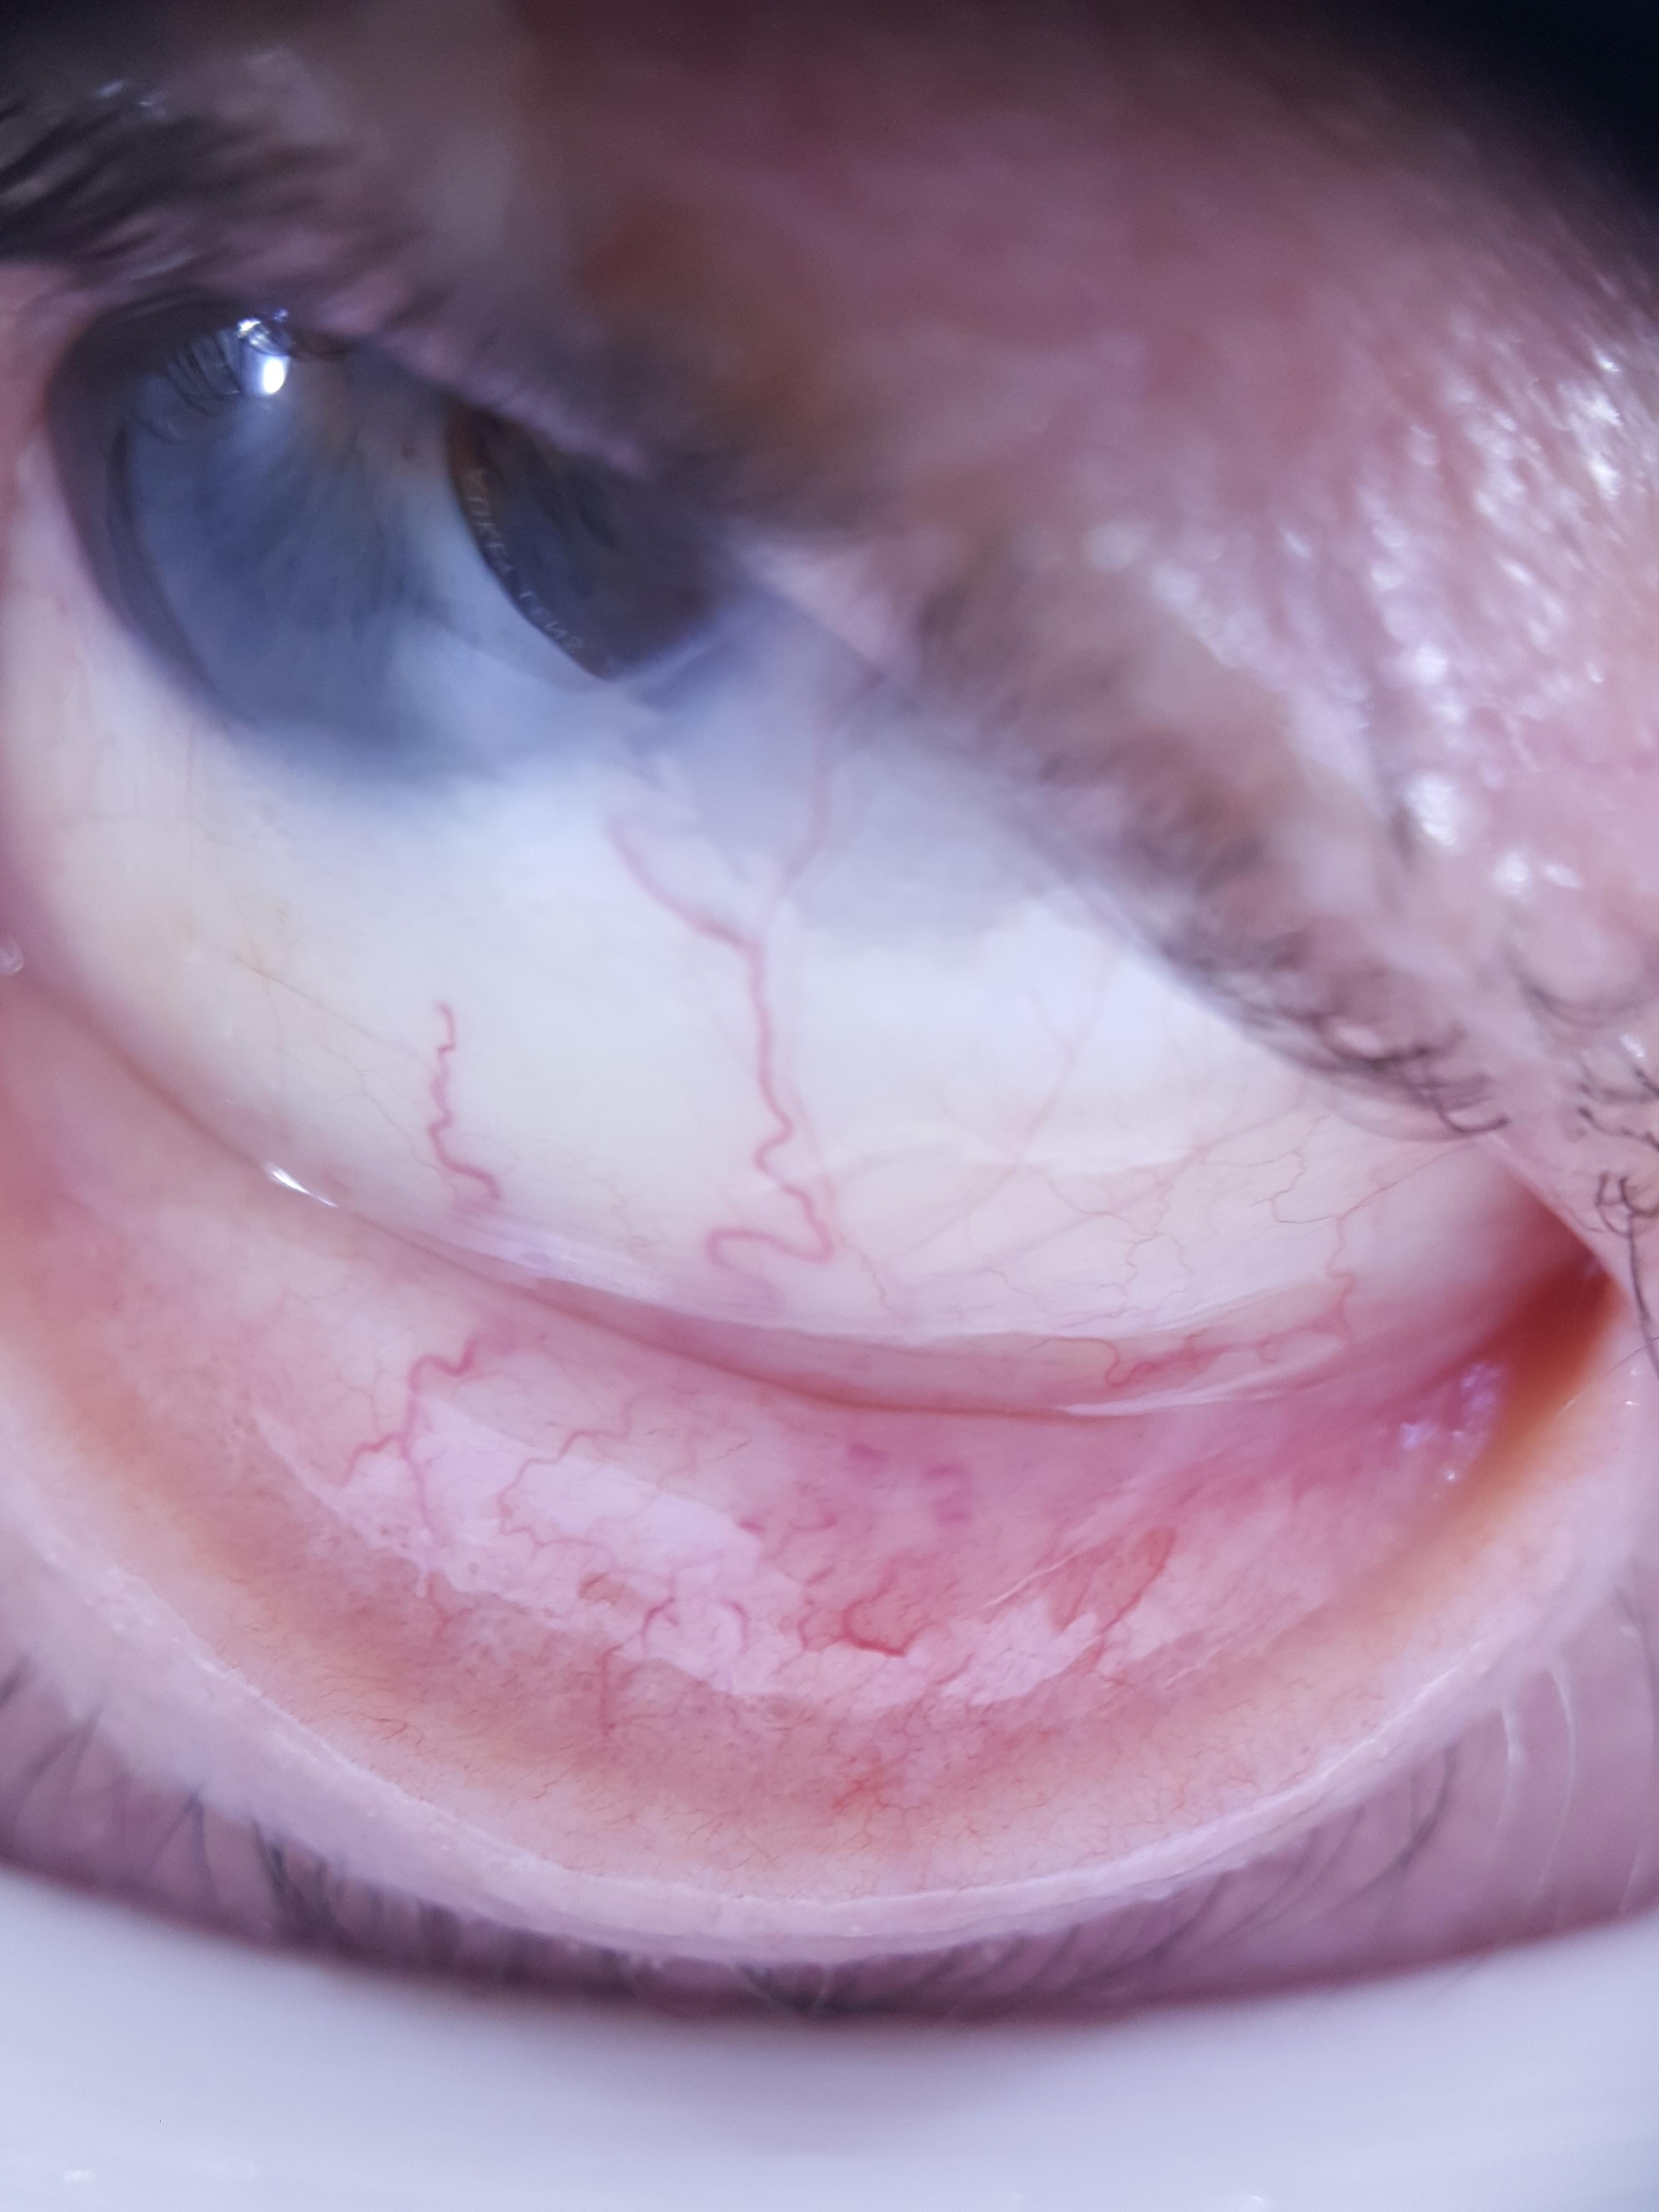forniceal: (14, 970, 1521, 1703)
forniceal_palpebral: (7, 977, 1527, 1804)
palpebral: (7, 984, 1521, 1811)
